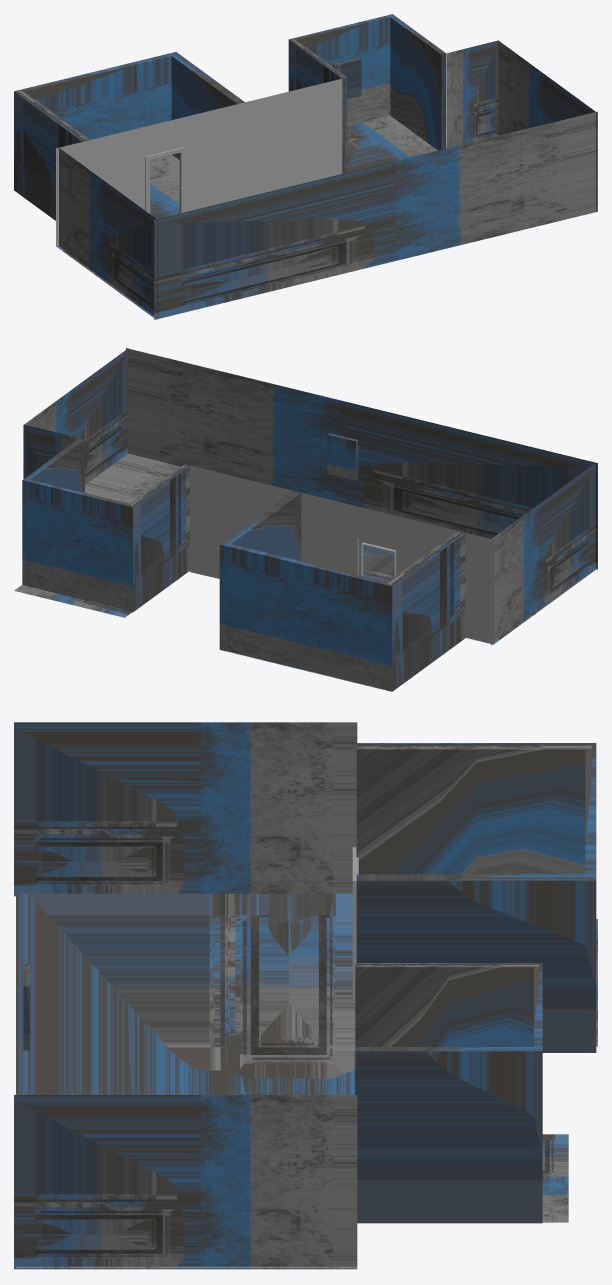
The model's file is second level blockout.fbx.
3 views of the same model, one above another, from view 1: azimuth 30°, elevation 25°; view 2: azimuth 150°, elevation 25°; view 3: azimuth 270°, elevation 25° (orthographic). The views are drawn at different scales.
Visible parts, largest first — view 1: pPlane4, polySurface131, pCube17, pCube16, pPlane7, pPlane10, pPlane6, pPlane2, pPlane3, pCube18; view 2: pPlane4, pCube17, pCube16, polySurface131, pPlane7, pPlane6, pPlane1, pPlane10, pCube19, pPlane2; view 3: pPlane1, pPlane6, pPlane7, pCube17, pCube16, pPlane2, polySurface131.
Part boxes in pixels (x1,y1,x2,y2): pPlane4: [154, 111, 597, 319]; polySurface131: [56, 78, 342, 246]; pCube17: [14, 52, 244, 220]; pCube16: [288, 14, 446, 173]; pPlane7: [59, 148, 157, 319]; pPlane10: [446, 40, 498, 148]; pPlane6: [498, 40, 596, 212]; pPlane2: [347, 115, 437, 172]; pPlane3: [150, 154, 179, 218]; pCube18: [332, 58, 361, 99]; pPlane4: [126, 348, 597, 569]; pCube17: [219, 491, 465, 691]; pCube16: [22, 438, 189, 612]; polySurface131: [189, 465, 494, 644]; pPlane7: [491, 463, 595, 645]; pPlane6: [23, 348, 128, 484]; pPlane1: [22, 453, 597, 644]; pPlane10: [24, 424, 79, 478]; pCube19: [327, 433, 358, 480]; pPlane2: [14, 585, 132, 617]; pPlane1: [16, 893, 357, 1268]; pPlane6: [14, 1095, 357, 1269]; pPlane7: [14, 722, 357, 896]; pCube17: [356, 743, 596, 1052]; pCube16: [355, 963, 542, 1223]; pPlane2: [542, 1134, 568, 1222]; polySurface131: [352, 847, 358, 1000].
Size of the model in its own units: 185 by 40 by 121.
